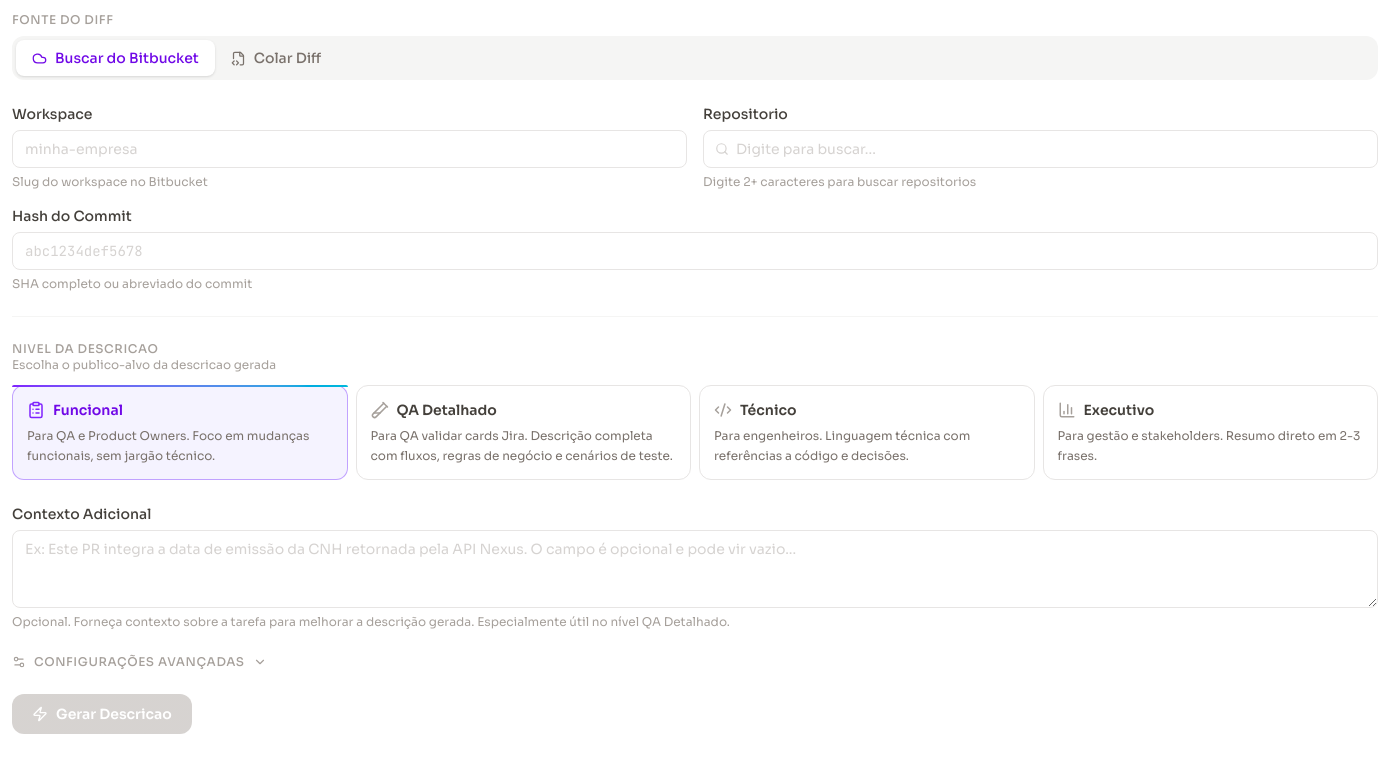
Test: CommitForm › shows diff field when switching to manual mode
Click the button "Colar Diff".
click(276, 58)  # box [215, 40, 337, 76]
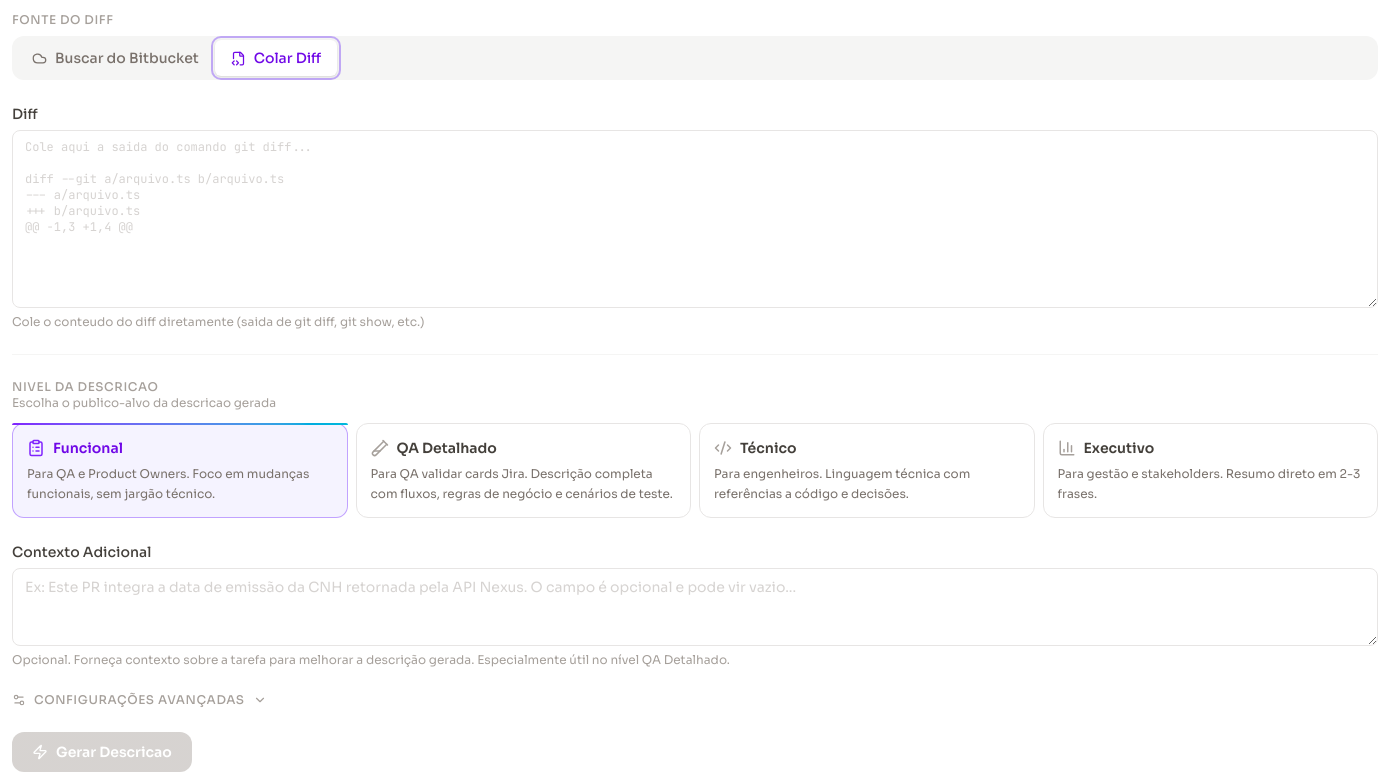
Expected: the text box labelled "Diff" is shown, [12, 130, 1378, 308]
